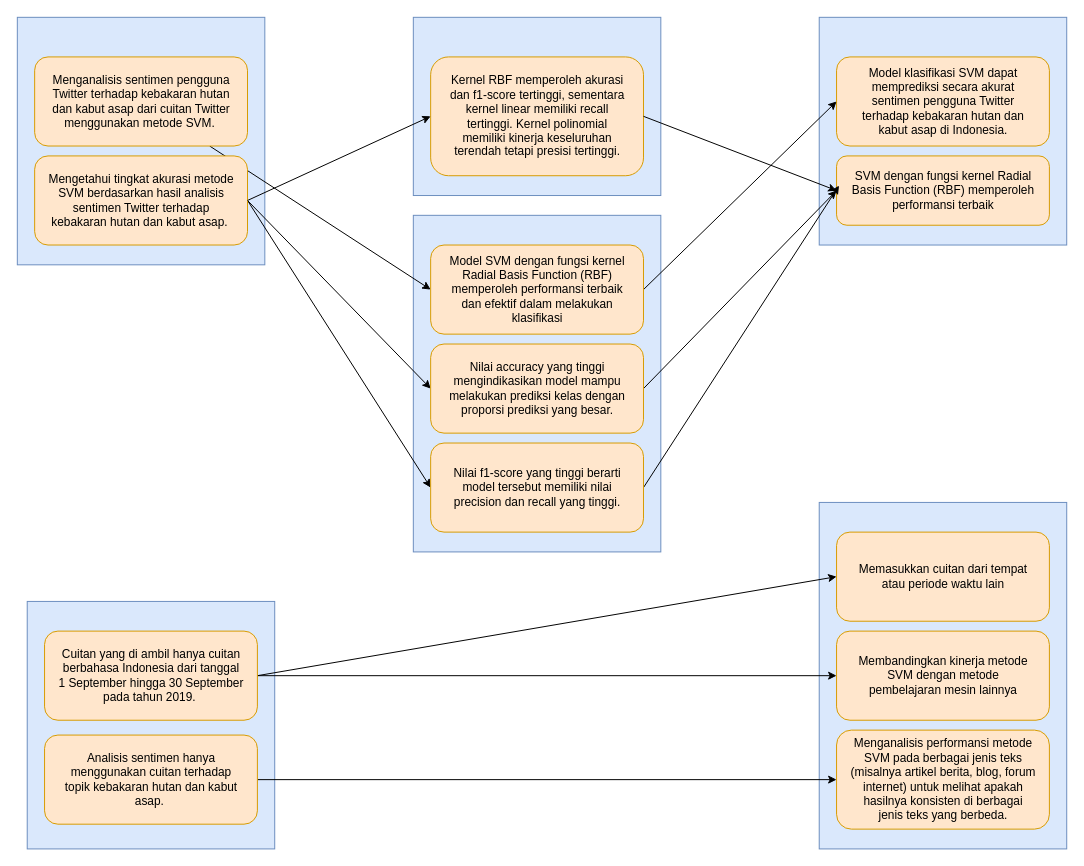
The diagram is 1084 pixels wide and 866 high, and some of its shapes have lost their labels. The box of each missing label's shape, as (x1, y1, x2, y2) in pixels:
Bahasan: (26, 600, 275, 849)
Hasil Analisis: (412, 214, 661, 552)
Hasil Pengujian: (412, 16, 661, 196)
Kesimpulan: (818, 16, 1067, 245)
Saran: (818, 501, 1067, 849)
Tujuan: (16, 16, 265, 265)
